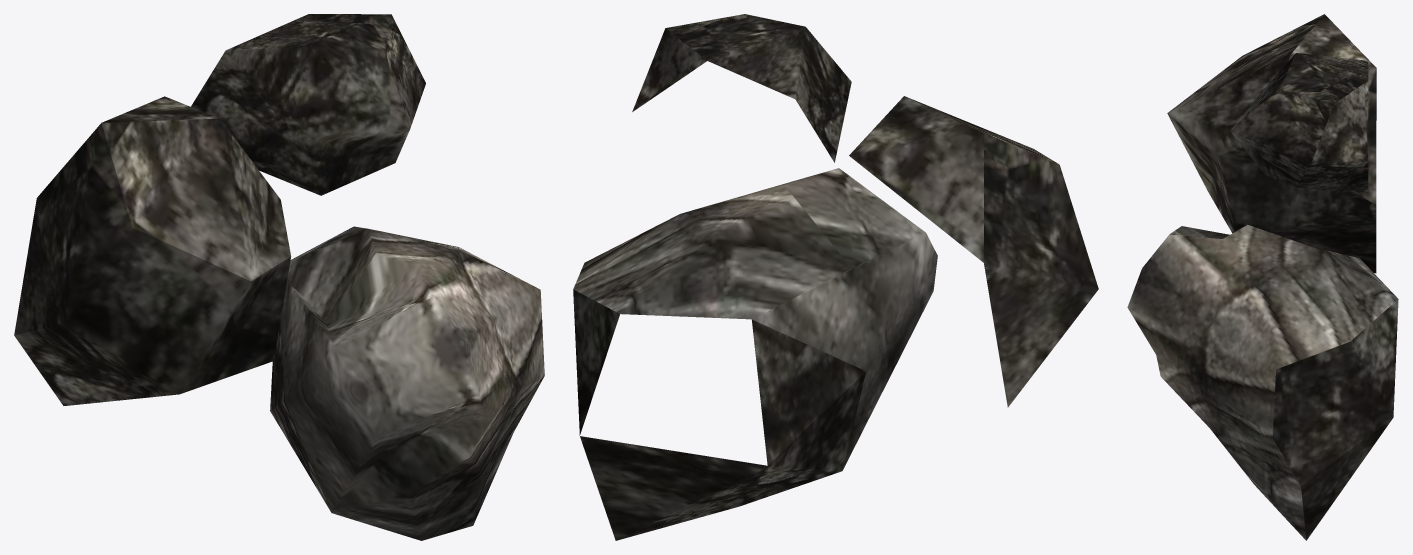
The picture shows the model from 3 angles, left to right: view 1: azimuth 30°, elevation 25°; view 2: azimuth 150°, elevation 25°; view 3: azimuth 270°, elevation 25°; orthographic projection. The views are drawn at different scales.
Parts seen in each view (by area): view 1: model_Object77; view 2: model_Object77; view 3: model_Object77.
Part boxes in pixels (box(x1,y1,x2,y2)): model_Object77: box(14, 14, 544, 540); model_Object77: box(573, 14, 1098, 540); model_Object77: box(1127, 14, 1398, 540).
Size of the model in its own units: 1.35 by 1.4 by 0.8202.
Materials: 2 (2 with a texture image).
